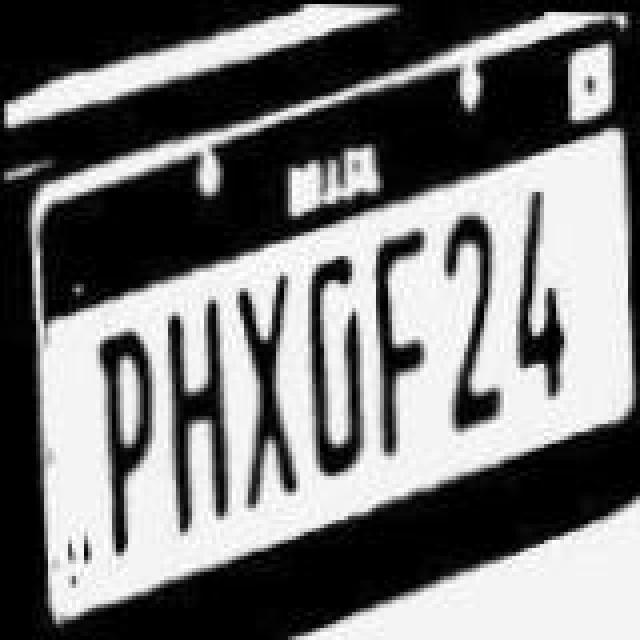2: (436, 210, 508, 430)
4: (506, 186, 574, 402)
D: (304, 252, 368, 476)
F: (368, 224, 432, 460)
H: (156, 294, 232, 538)
P: (90, 328, 158, 556)
X: (228, 270, 296, 510)
